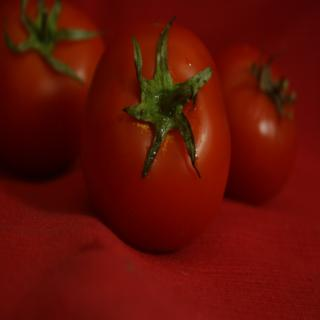tomato: (78, 18, 232, 256), (0, 0, 107, 181), (215, 42, 296, 214)
